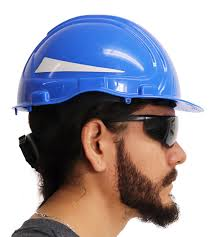Casco de seguridad: (13, 15, 202, 111)
